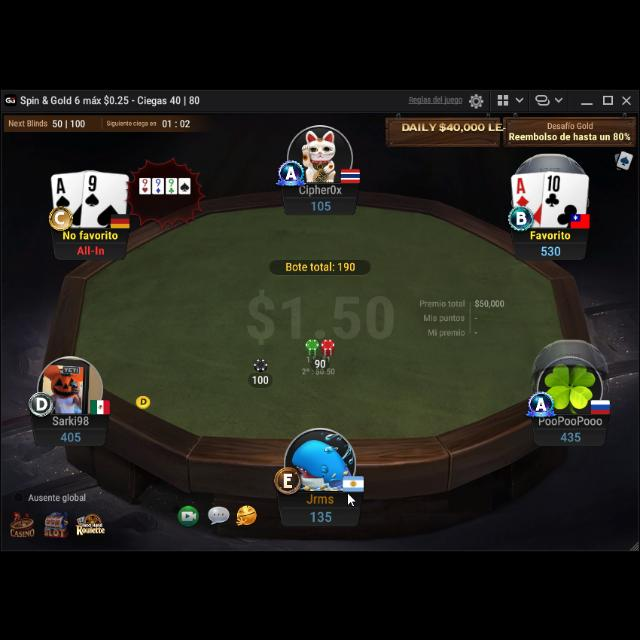9s: (85, 174, 101, 208)
Ad: (516, 176, 530, 208)
As: (55, 176, 71, 208)
Tc: (544, 174, 564, 208)
all_in_symbol: (76, 242, 106, 256)
bet_text: (250, 372, 270, 386), (313, 356, 327, 370)
dealer: (134, 393, 152, 409)
pot_text: (284, 260, 356, 274)
stack_text: (308, 508, 334, 524), (59, 428, 83, 444), (310, 197, 332, 213), (560, 430, 582, 442), (540, 244, 562, 256)
